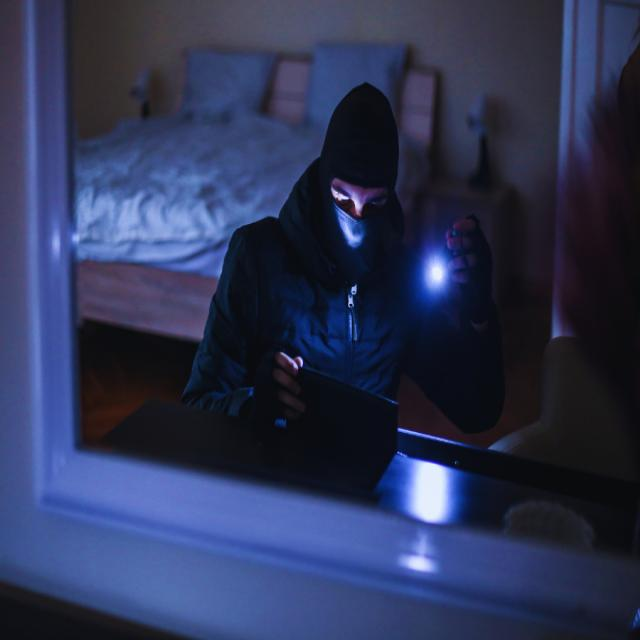intrusion detected: (177, 80, 502, 410)
